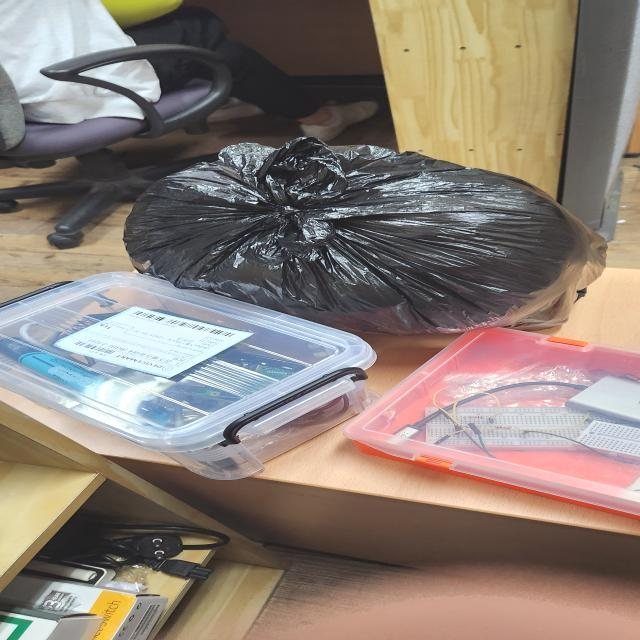black_bag: (123, 132, 607, 336)
